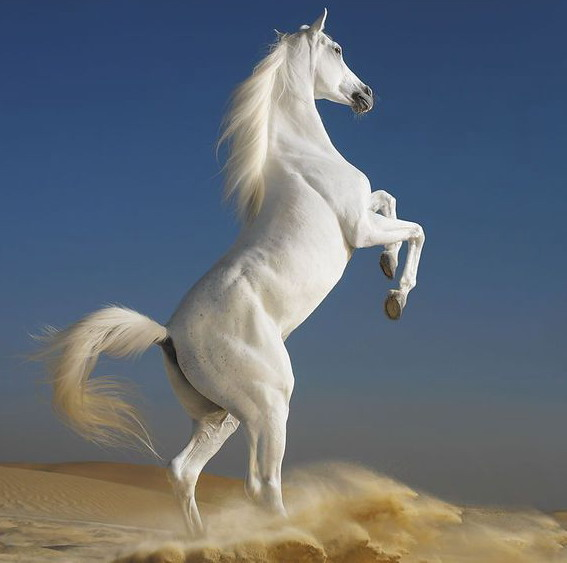horse: (22, 1, 430, 550)
